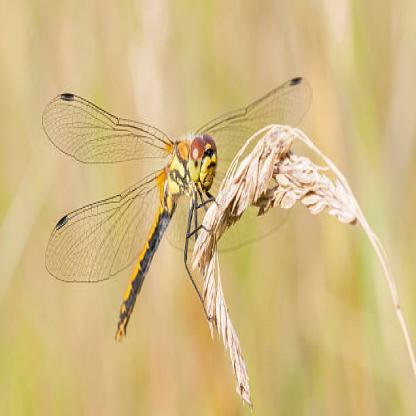sawfly: (38, 71, 315, 347)
